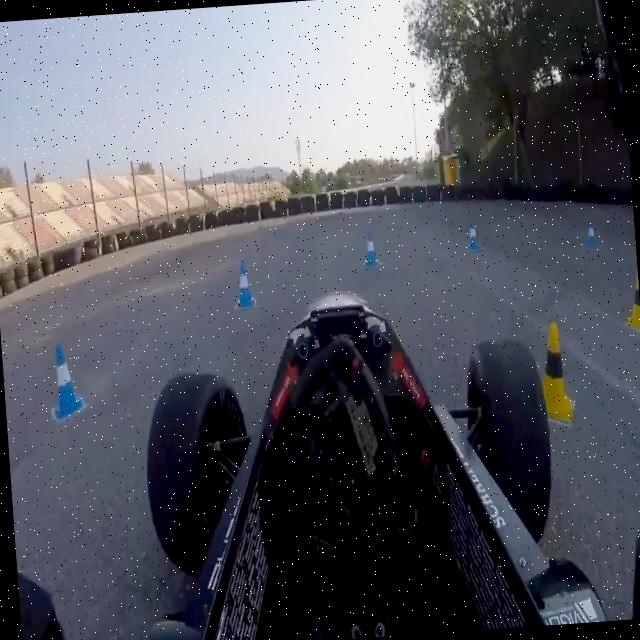blue_cone: (42, 338, 86, 421), (228, 259, 256, 313), (356, 224, 382, 268), (462, 220, 482, 256), (582, 215, 596, 252)
yellow_cone: (530, 319, 574, 422), (620, 268, 640, 339)
